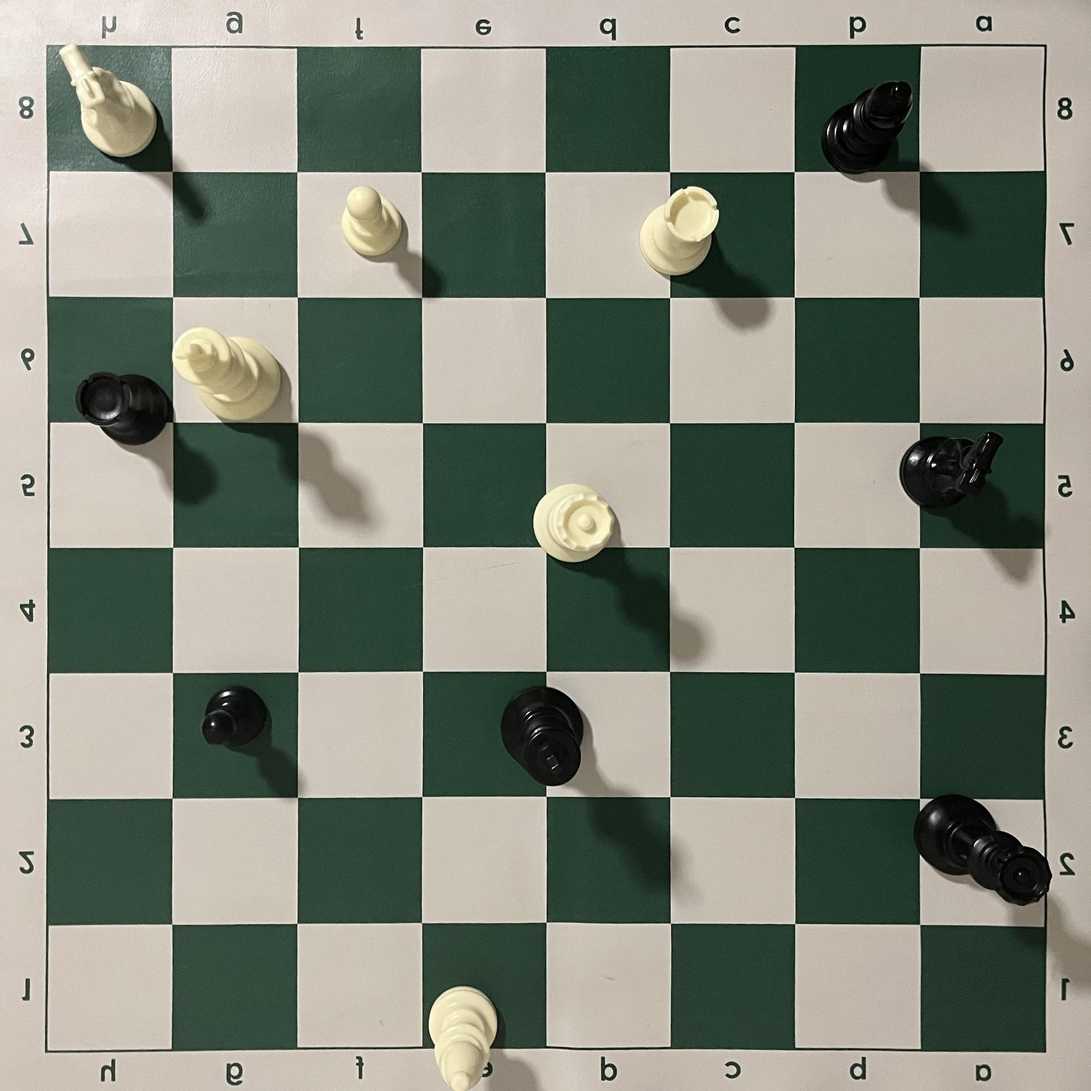black_bishop: (820, 79, 914, 175)
black_king: (500, 684, 584, 787)
black_knight: (898, 430, 1004, 510)
black_pawn: (201, 685, 269, 749)
black_queen: (913, 793, 1053, 907)
black_rook: (74, 371, 171, 446)
white_bishop: (427, 984, 499, 1091)
white_king: (171, 326, 282, 421)
white_knight: (59, 43, 157, 157)
white_pawn: (341, 185, 402, 257)
white_queen: (532, 483, 616, 564)
white_rook: (638, 185, 720, 276)
